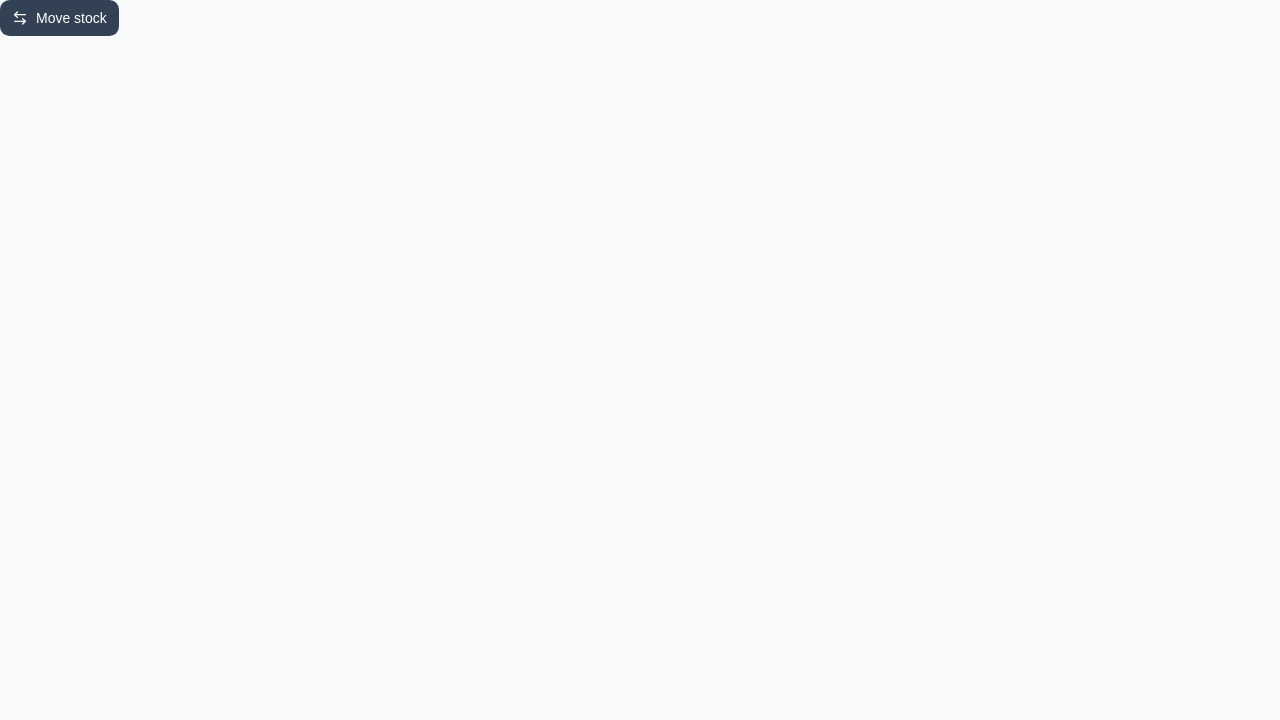
Test case: validation blocks an empty transfer without calling the API
What coordinates should you click on to do the following:
click the button "Move stock"
I would click on:
 (59, 18)
Its box is [0, 0, 119, 36].
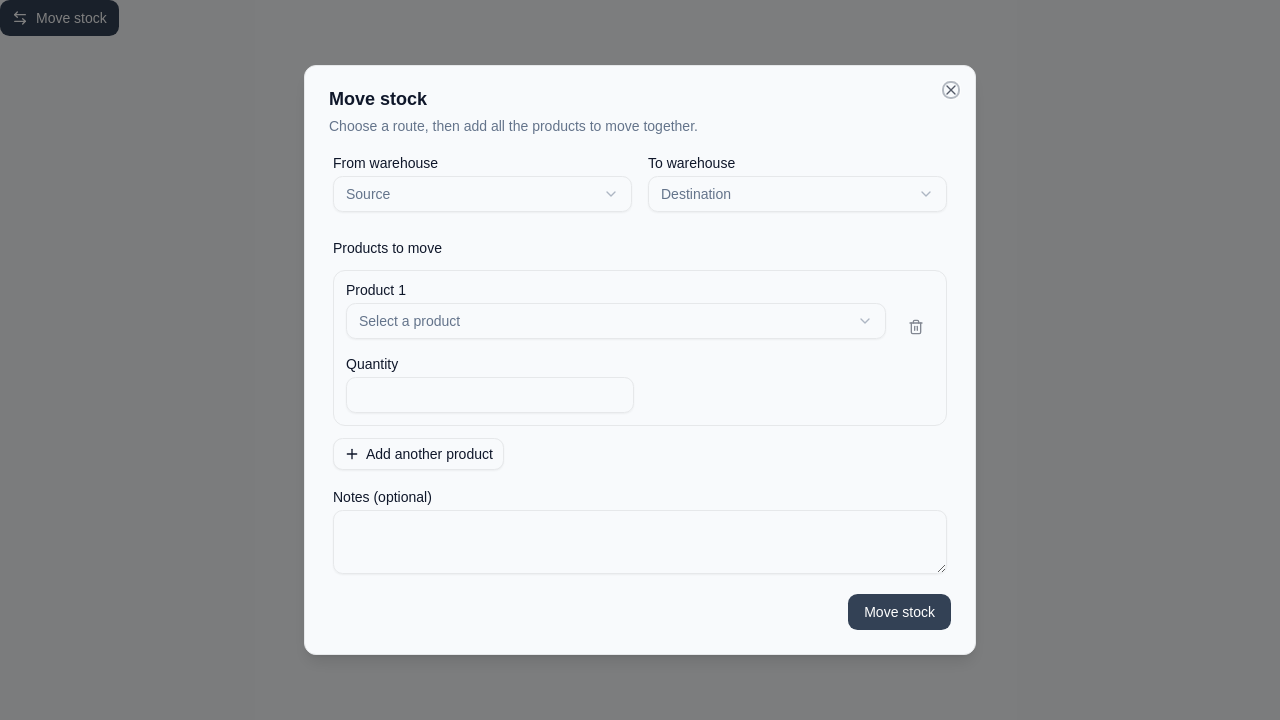
Result: the button "Move stock" is enabled
What coordinates should you click on to do the following:
click the button "Move stock"
I would click on:
 (900, 612)
Its box is [848, 594, 951, 630].
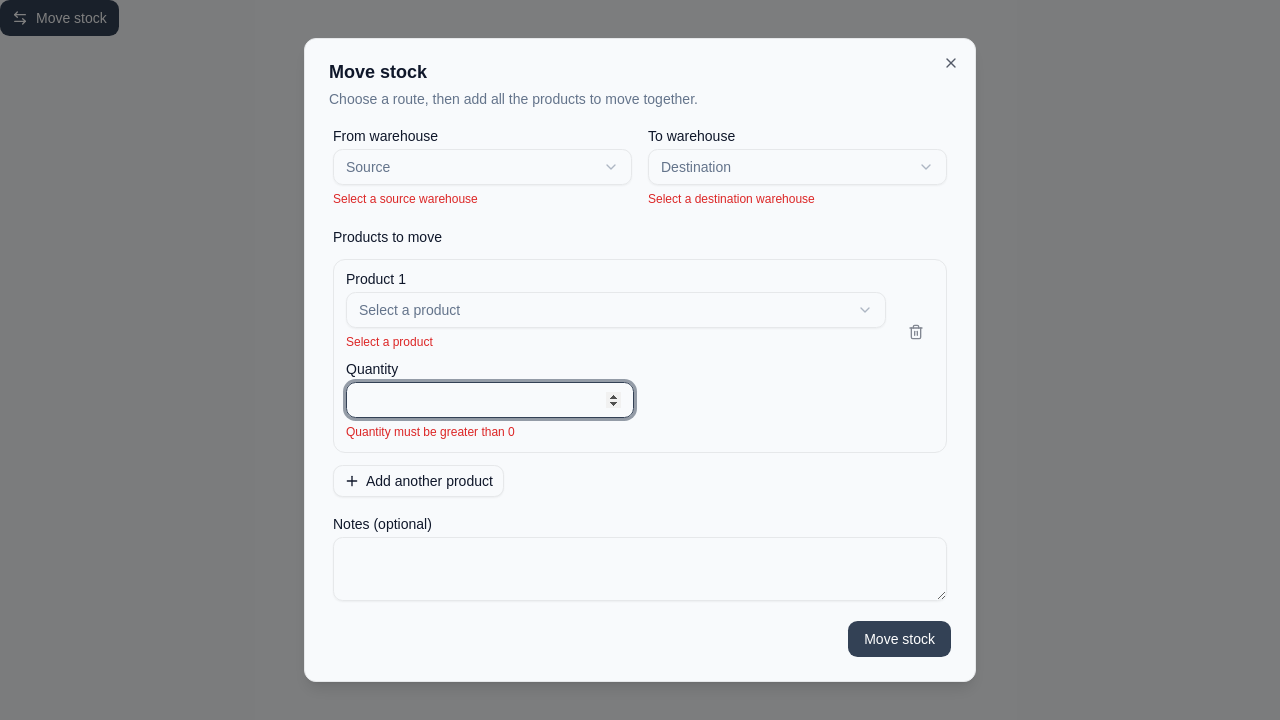
Result: the text "Select a source warehouse" is shown at [333, 192, 478, 206]
